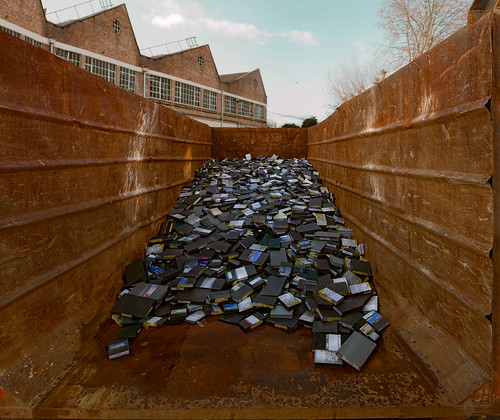building: (1, 1, 265, 126)
sky: (272, 1, 500, 121)
trash: (120, 136, 400, 381)
